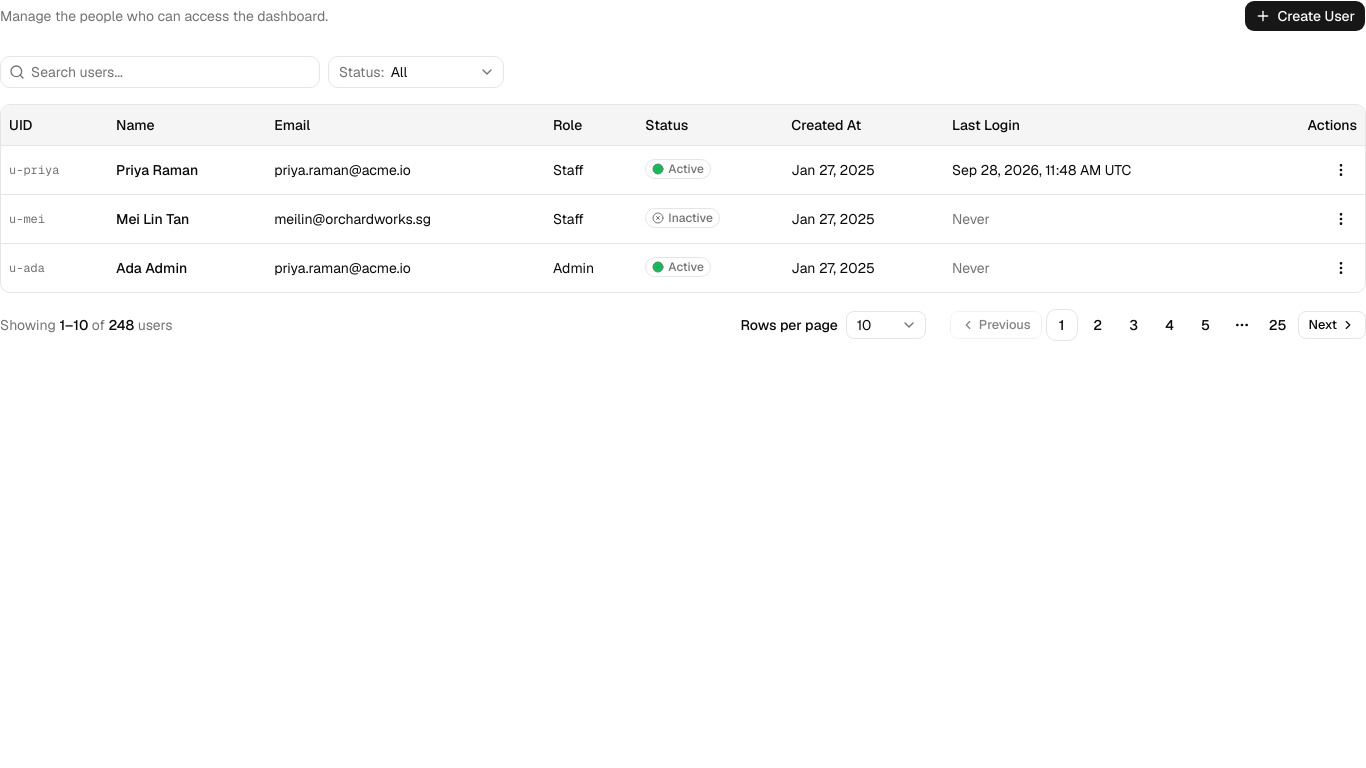
Test case: UsersList row actions › keeps the confirmation open and explains why when the API refuses to disable
The width and height of the screenshot is (1366, 768).
Expected: the text "Priya Raman" is shown, [116,160,198,178]
Click the button named "Actions for Ada Admin". click: (1341, 268)
box: [1325,252,1357,284]
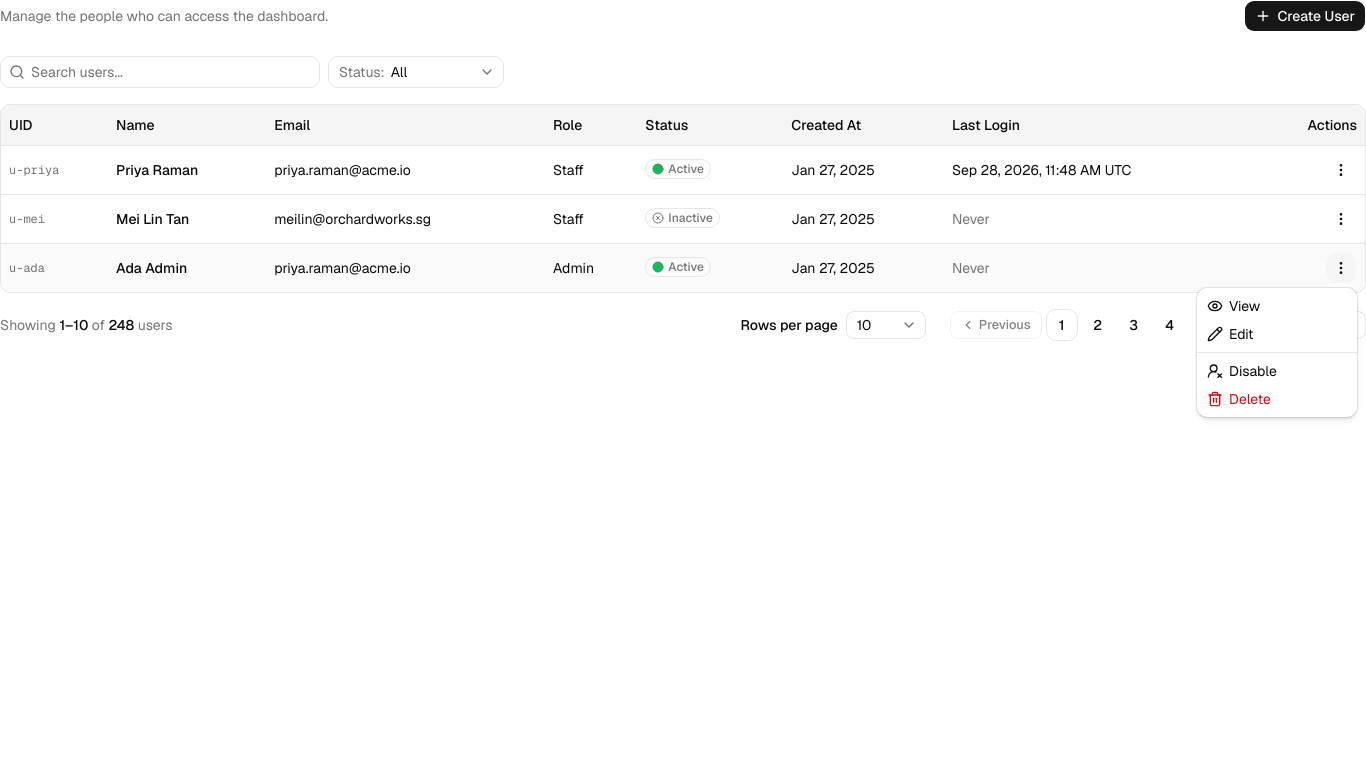
Click the menu item "Disable". click: (1242, 371)
box: [1207,362,1277,380]
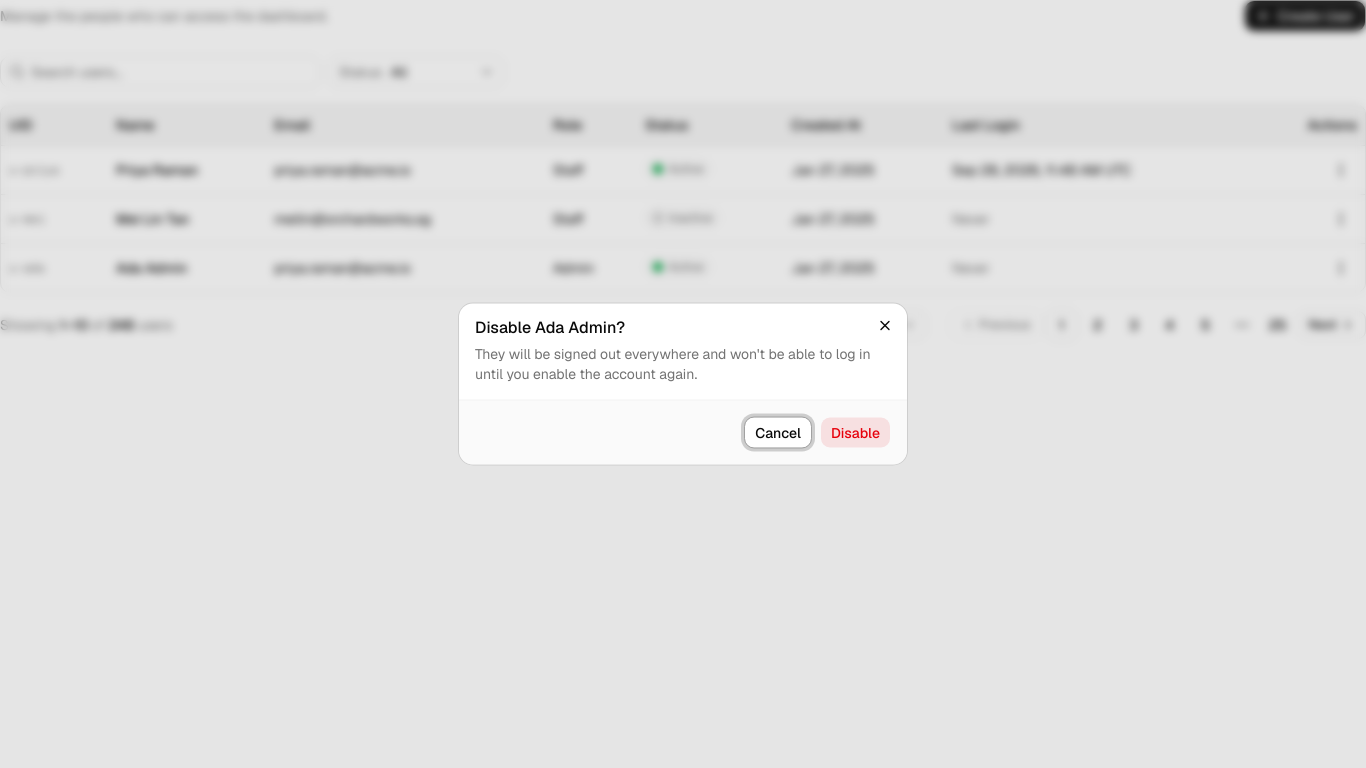
Click the button "Disable". click: (855, 432)
box: [820,416,891,448]
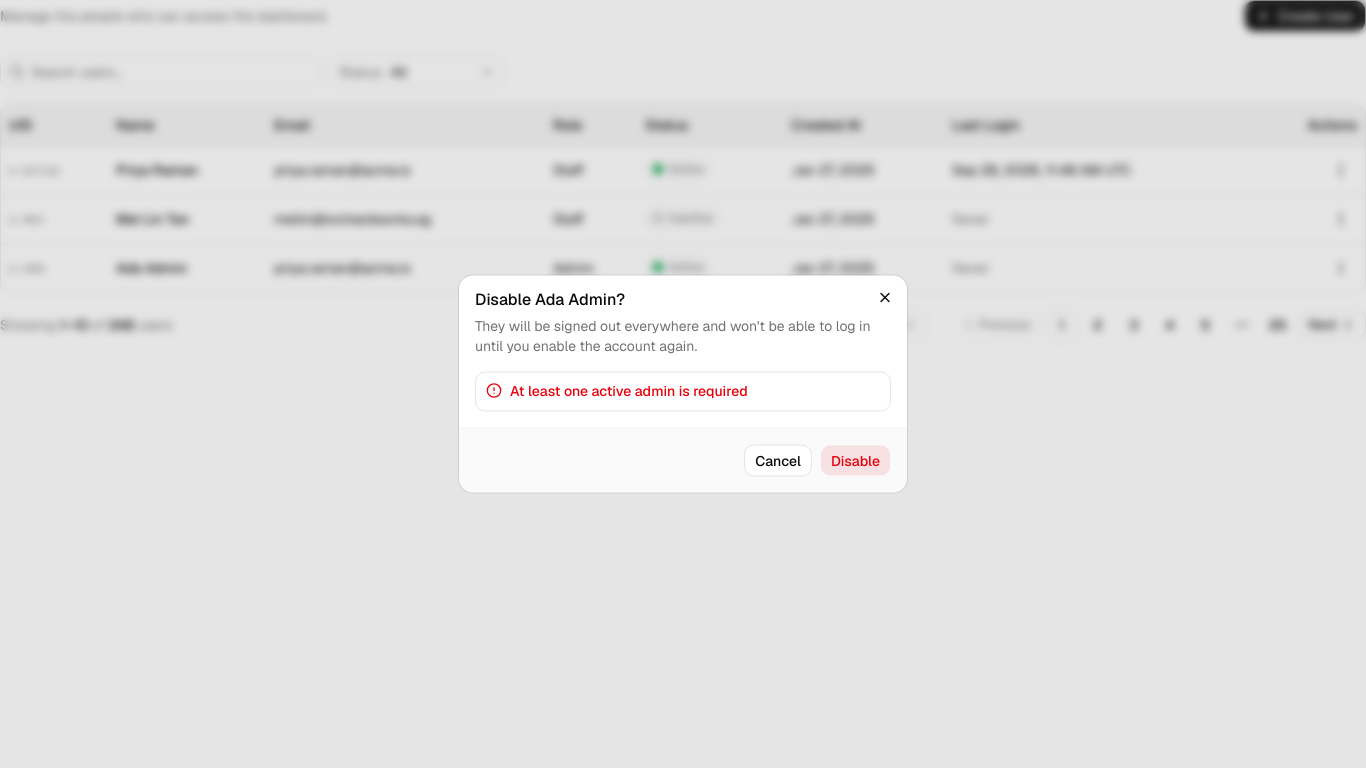
Expected: the dialog is shown, [459,276,907,492]
Expected: the message reads "At least one active admin is required", [510,382,748,400]
